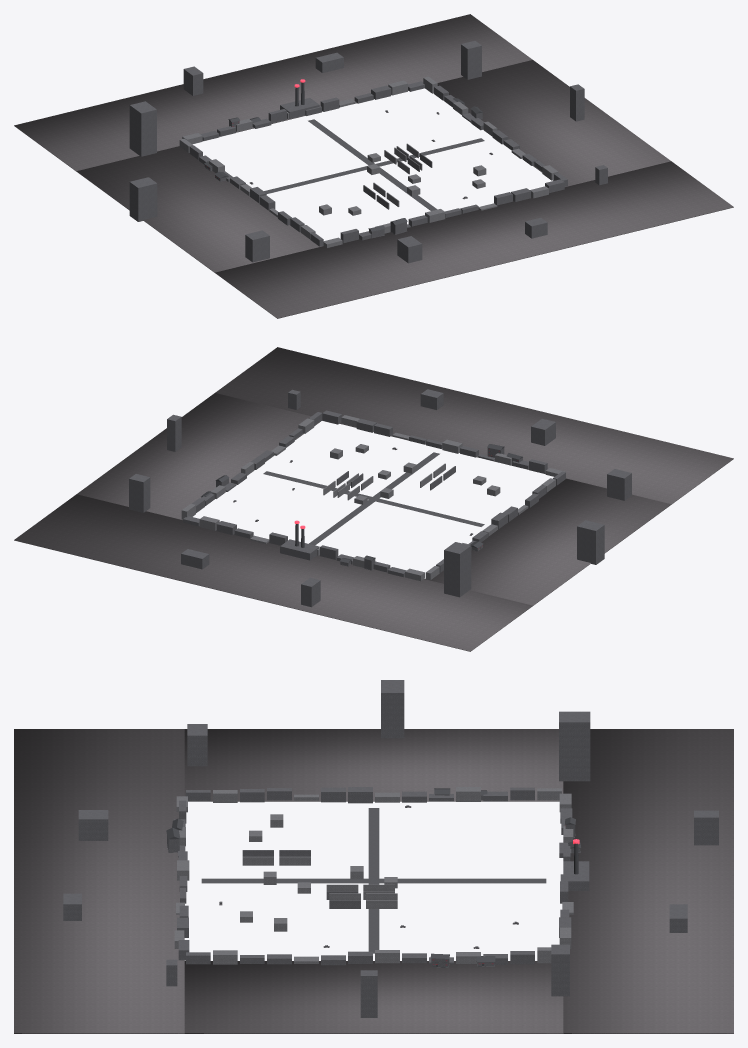
The picture shows the model from 3 angles, top to bottom: view 1: azimuth 30°, elevation 25°; view 2: azimuth 150°, elevation 25°; view 3: azimuth 270°, elevation 25°; orthographic projection. The views are drawn at different scales.
Parts seen in each view (by area): view 1: HB_z06_LOD2_terrain, HB_z06_LOD2_wall_alt, HB_z06_LOD2_wall, HB_z06_LOD2_road, HB_z06_LOD2_trim; view 2: HB_z06_LOD2_terrain, HB_z06_LOD2_wall_alt, HB_z06_LOD2_wall, HB_z06_LOD2_road, HB_z06_LOD2_trim; view 3: HB_z06_LOD2_terrain, HB_z06_LOD2_wall_alt, HB_z06_LOD2_wall, HB_z06_LOD2_road, HB_z06_LOD2_trim.
Part boxes in pixels (<box>): HB_z06_LOD2_terrain: <box>14,14,733,318</box>; HB_z06_LOD2_wall_alt: <box>129,41,607,263</box>; HB_z06_LOD2_wall: <box>179,76,558,247</box>; HB_z06_LOD2_road: <box>264,119,484,210</box>; HB_z06_LOD2_trim: <box>204,82,491,231</box>; HB_z06_LOD2_terrain: <box>14,347,733,651</box>; HB_z06_LOD2_wall_alt: <box>129,389,631,607</box>; HB_z06_LOD2_wall: <box>181,415,565,581</box>; HB_z06_LOD2_road: <box>263,452,484,545</box>; HB_z06_LOD2_trim: <box>201,444,522,562</box>; HB_z06_LOD2_terrain: <box>14,729,733,1033</box>; HB_z06_LOD2_wall_alt: <box>63,680,718,1017</box>; HB_z06_LOD2_wall: <box>174,787,573,964</box>; HB_z06_LOD2_road: <box>201,808,546,953</box>; HB_z06_LOD2_trim: <box>166,788,580,967</box>.
Size of the model in its own units: 554 by 50.77 by 548.
9 materials, 7 textured.
